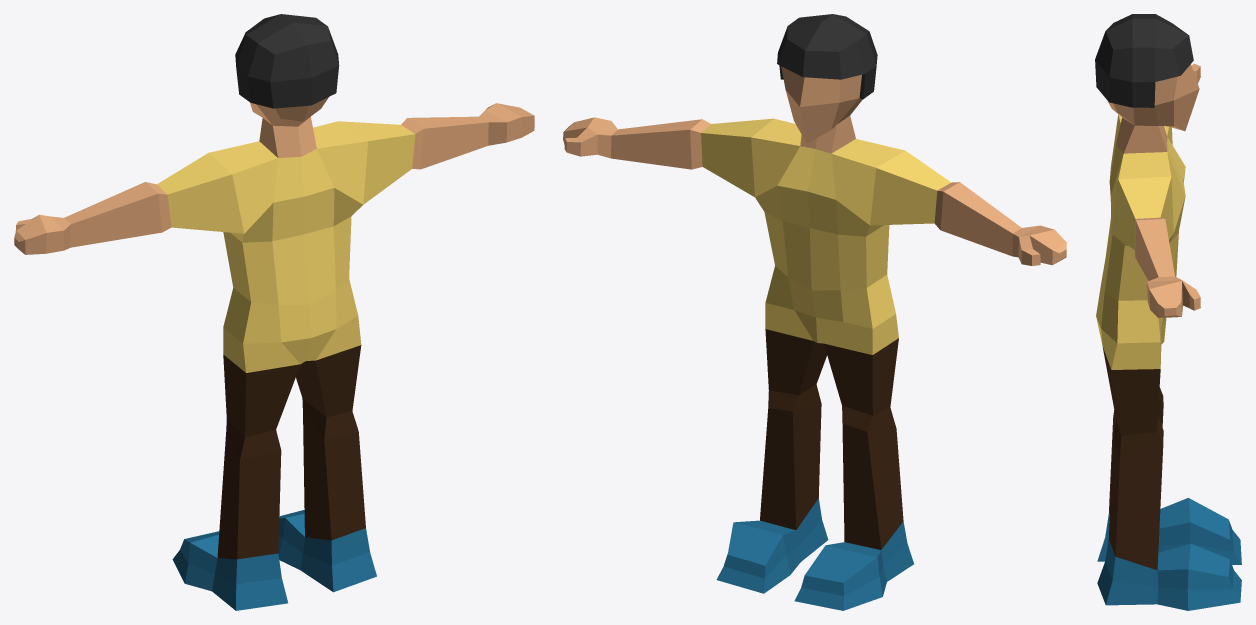
Rendered from NPCS2.fbx.
3 views of the same model, side by side, from view 1: azimuth 30°, elevation 25°; view 2: azimuth 150°, elevation 25°; view 3: azimuth 270°, elevation 25° (orthographic). The views are drawn at different scales.
Parts seen in each view (by area): view 1: NPC.002; view 2: NPC.002; view 3: NPC.002.
Boxes of the visible parts, left/top/right/bottom form: NPC.002: left=14, top=14, right=534, bottom=610; NPC.002: left=563, top=14, right=1066, bottom=610; NPC.002: left=1095, top=14, right=1241, bottom=610.
Bounding box in the file's own units: 3.76 × 0.9411 × 3.92.
